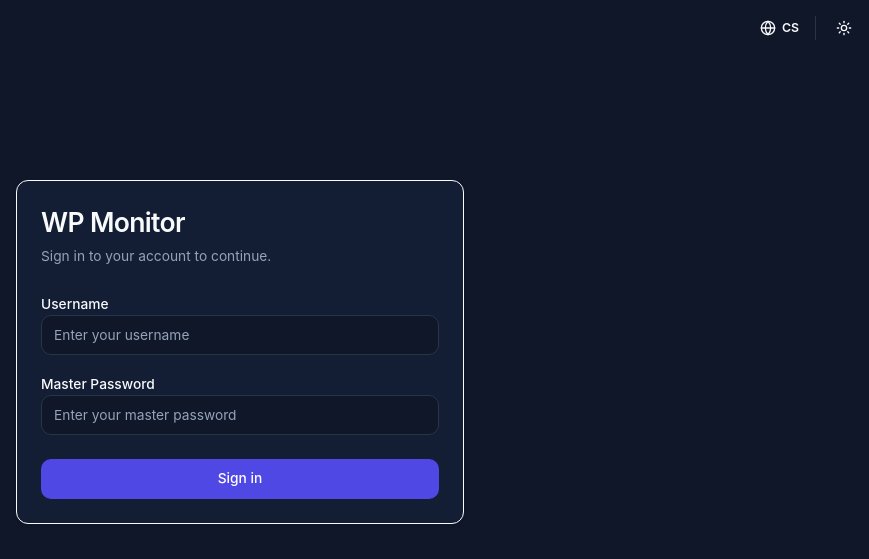
Scenario: LoginPage › shows error when submitting empty fields
The width and height of the screenshot is (869, 559).
What coordinates should you click on to do the following:
click the button "Sign in"
I would click on:
 (240, 479)
Its box is [41, 459, 439, 499].
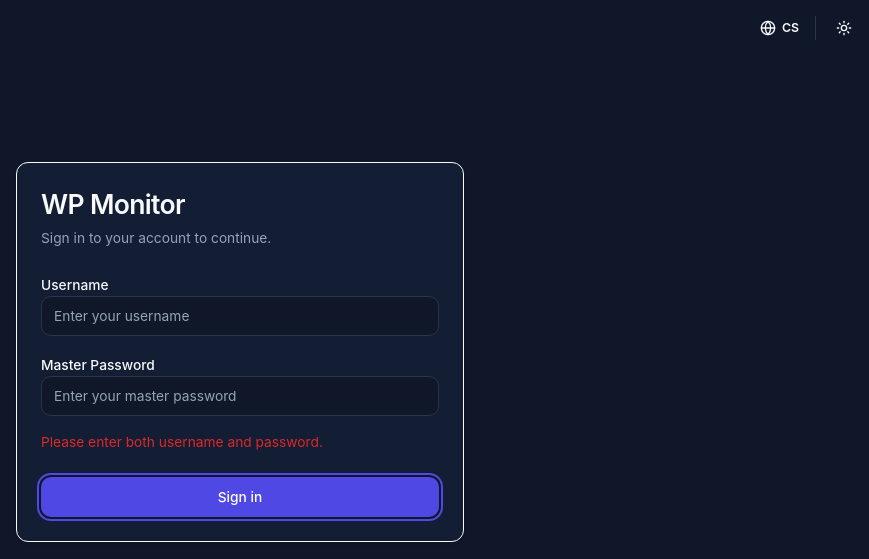
Expected: the text "Please enter both username and password." is shown, [41, 434, 323, 450]
